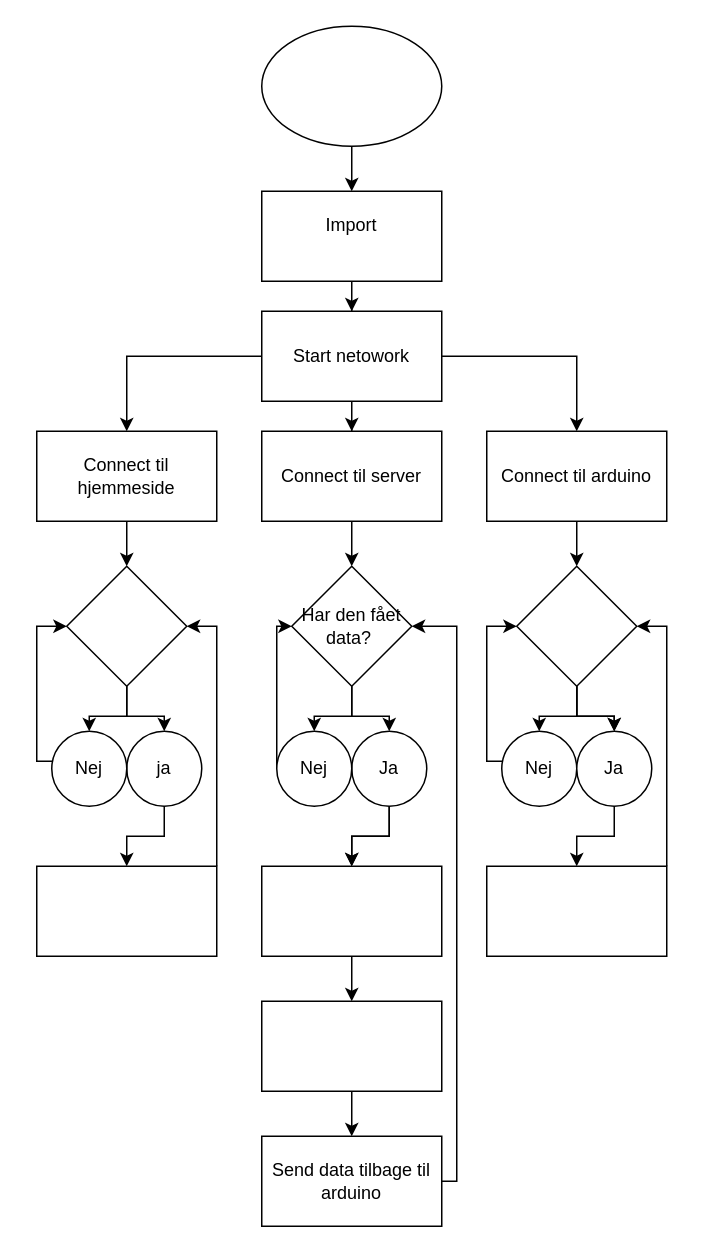
Some shapes in this 705 by 1253 pixel diagram are drawn without their labels. Here are the shapes that lost their labels. From the top down, the centre of each, then its label:
At pixel 351 85: "Start".
At pixel 126 625: "Har serveren fået ny data?".
At pixel 576 625: "Giver den data?".
At pixel 126 910: "Send data til hjemmeside".
At pixel 351 910: "Gem data".
At pixel 576 910: "Send data til server".
At pixel 351 1045: "Sammenlign data med normal værdi".
